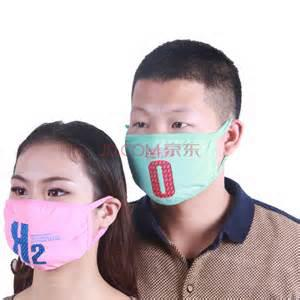OK: (131, 107, 225, 202), (9, 173, 95, 264)
